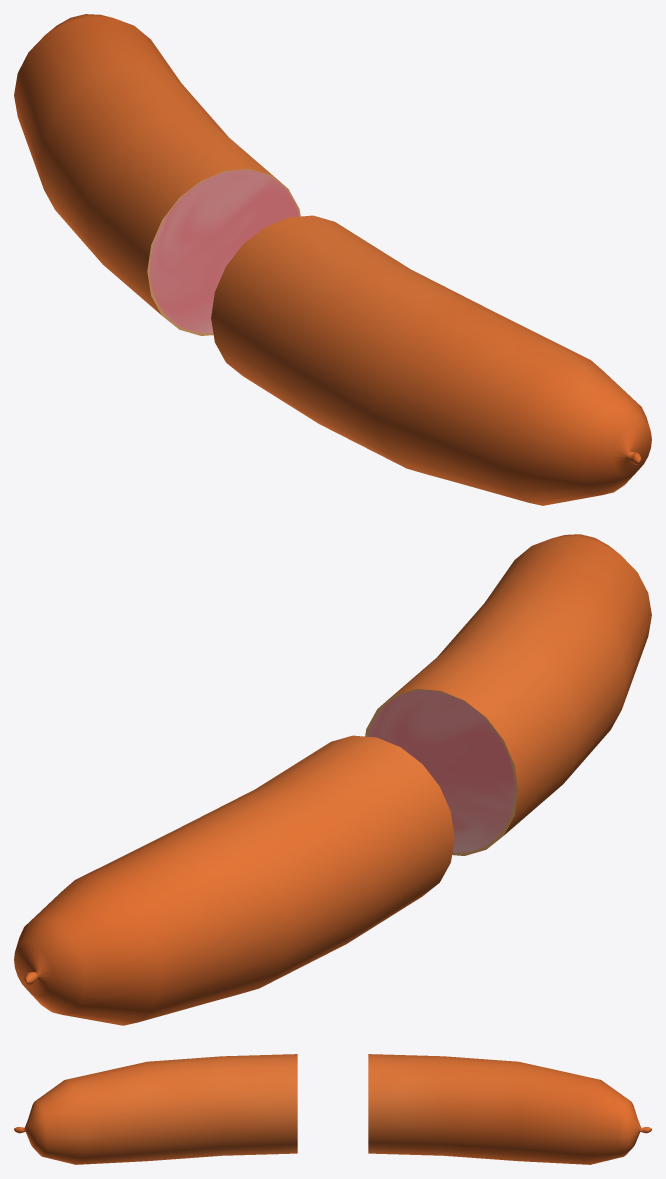
The model's file is so-se-ji_kireteru02.fbx.
3 views of the same model, one above another, from view 1: azimuth 30°, elevation 25°; view 2: azimuth 150°, elevation 25°; view 3: azimuth 270°, elevation 25° (orthographic). The views are drawn at different scales.
Parts seen in each view (by area): view 1: polySurface1, polySurface2; view 2: polySurface2, polySurface1; view 3: polySurface1, polySurface2.
Part boxes in pixels (x1=…): polySurface1: x1=211, y1=215, x2=651, y2=505; polySurface2: x1=14, y1=14, x2=300, y2=335; polySurface2: x1=14, y1=735, x2=454, y2=1025; polySurface1: x1=365, y1=534, x2=651, y2=855; polySurface1: x1=14, y1=1054, x2=297, y2=1164; polySurface2: x1=368, y1=1054, x2=651, y2=1164.
Size of the model in its own units: 2.72 by 2 by 12.72.
Materials: 1 (1 with a texture image).
